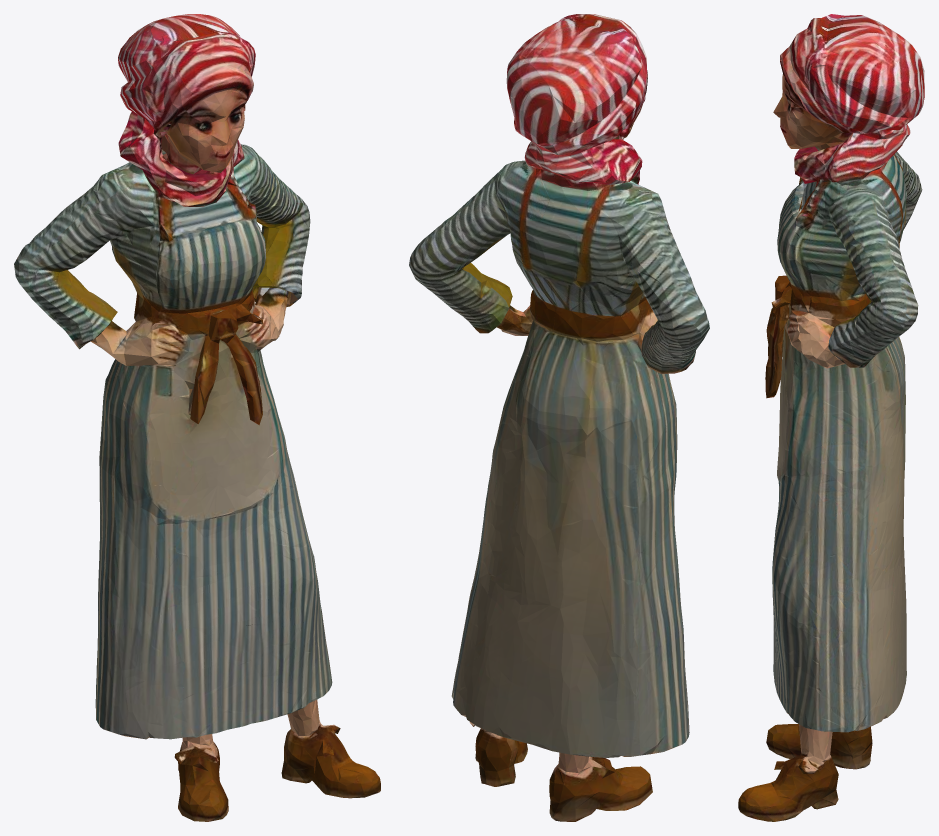
The model's file is villager2.glb.
The picture shows the model from 3 angles, left to right: view 1: azimuth 30°, elevation 25°; view 2: azimuth 150°, elevation 25°; view 3: azimuth 270°, elevation 25°; orthographic projection. The views are drawn at different scales.
Parts seen in each view (by area): view 1: villager2; view 2: villager2; view 3: villager2.
Boxes of the visible parts, x1,y1,x2,y2 form: villager2: (14, 14, 380, 821); villager2: (409, 14, 709, 821); villager2: (738, 14, 924, 821).
Size of the model in its own units: 0.7827 by 1.99 by 0.4608.
1 material, 1 textured.
